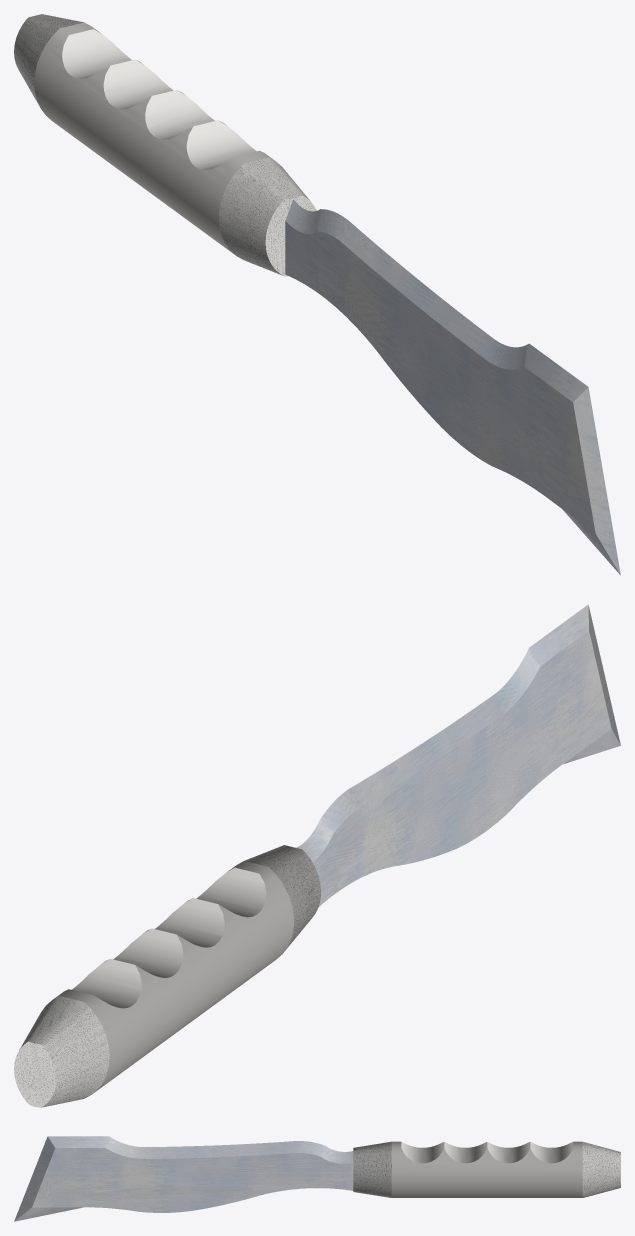
The model's file is model_align.obj.
3 renders of one model, top to bottom at view 1: azimuth 30°, elevation 25°; view 2: azimuth 150°, elevation 25°; view 3: azimuth 270°, elevation 25°, orthographic. The views are drawn at different scales.
Visible parts, largest first — view 1: mesh1_mesh1-geometry; view 2: mesh1_mesh1-geometry; view 3: mesh1_mesh1-geometry.
Part boxes in pixels (x1,y1,x2,y2): mesh1_mesh1-geometry: (14,14,620,575); mesh1_mesh1-geometry: (14,604,620,1107); mesh1_mesh1-geometry: (14,1136,620,1221).
Size of the model in its own units: 0.0159 by 0.0333 by 0.2139.
4 materials, 3 textured.
